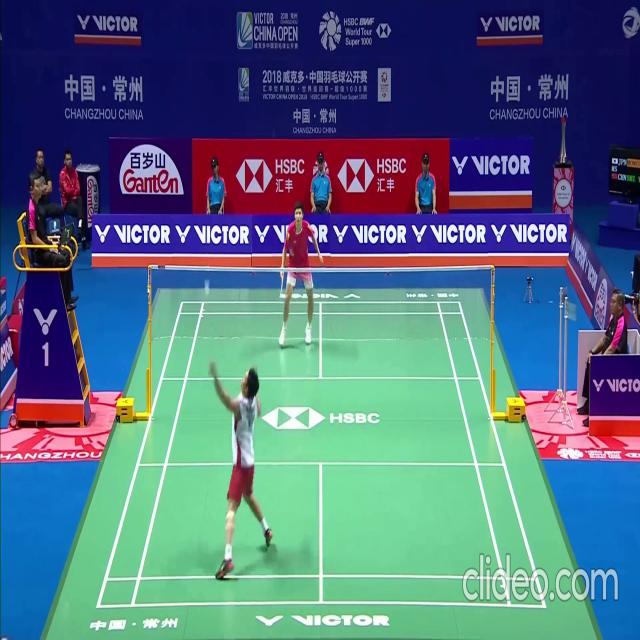Shuttlecock: (204, 290, 209, 297)
